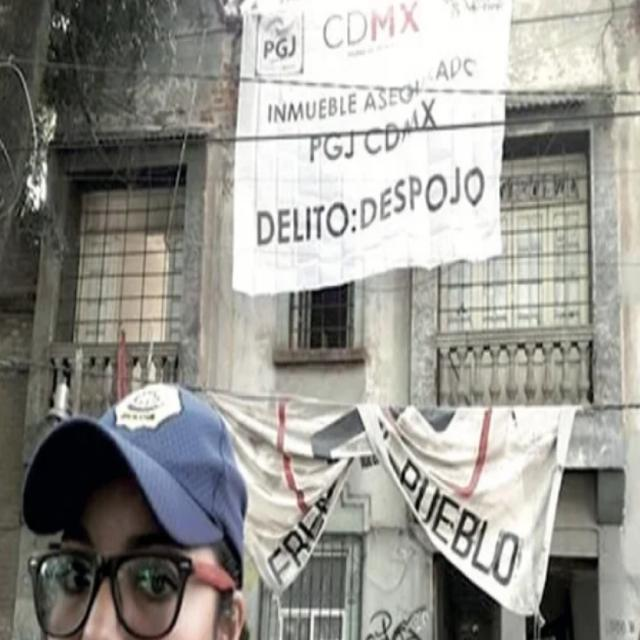stamps: (239, 5, 502, 284)
